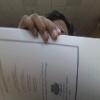notebook: (0, 26, 99, 99)
